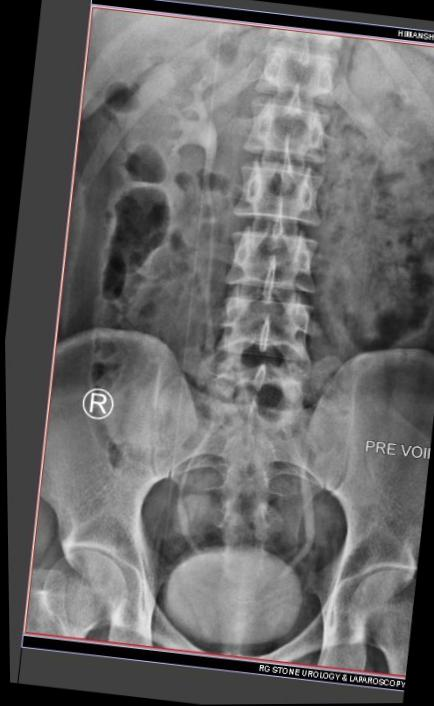bladder: (105, 556, 293, 699)
vertebrae: (208, 63, 318, 149)
